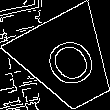O_SE: (34, 29, 102, 95)
